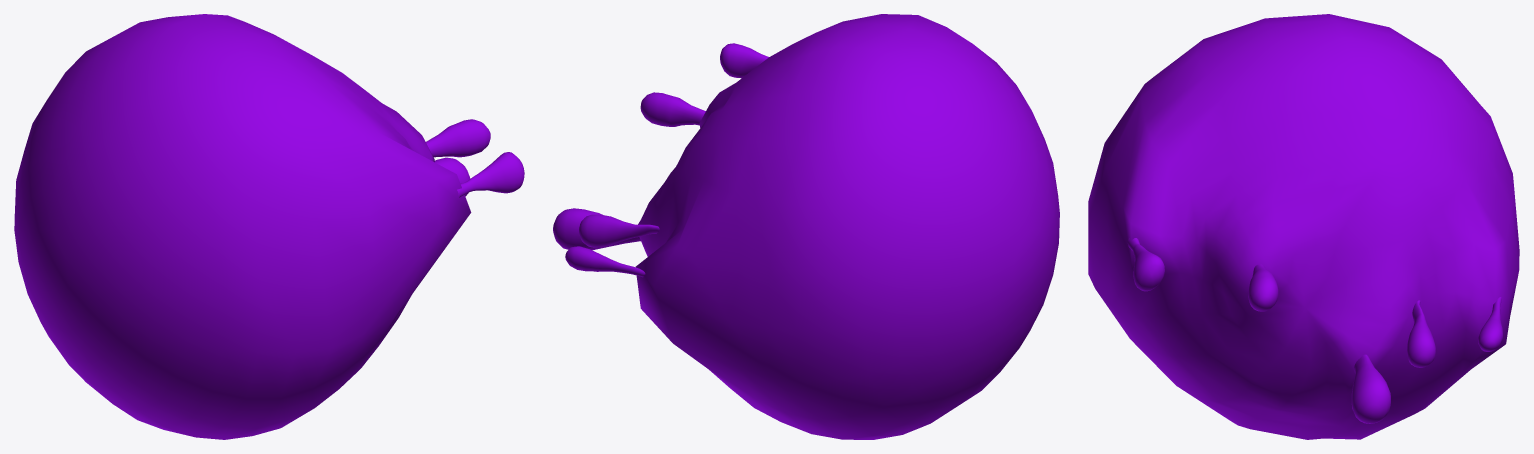
The model's file is bullet_purple.fbx.
3 views of the same model, side by side, from view 1: azimuth 30°, elevation 25°; view 2: azimuth 150°, elevation 25°; view 3: azimuth 270°, elevation 25° (orthographic). The views are drawn at different scales.
Visible parts, largest first — view 1: pasted__pasted__pasted__polySurface21; view 2: pasted__pasted__pasted__polySurface21; view 3: pasted__pasted__pasted__polySurface21.
Boxes of the visible parts, x1,y1,x2,y2 form: pasted__pasted__pasted__polySurface21: (14, 14, 524, 439); pasted__pasted__pasted__polySurface21: (553, 14, 1059, 439); pasted__pasted__pasted__polySurface21: (1088, 14, 1519, 439).
Size of the model in its own units: 2.26 by 1.88 by 1.87.
